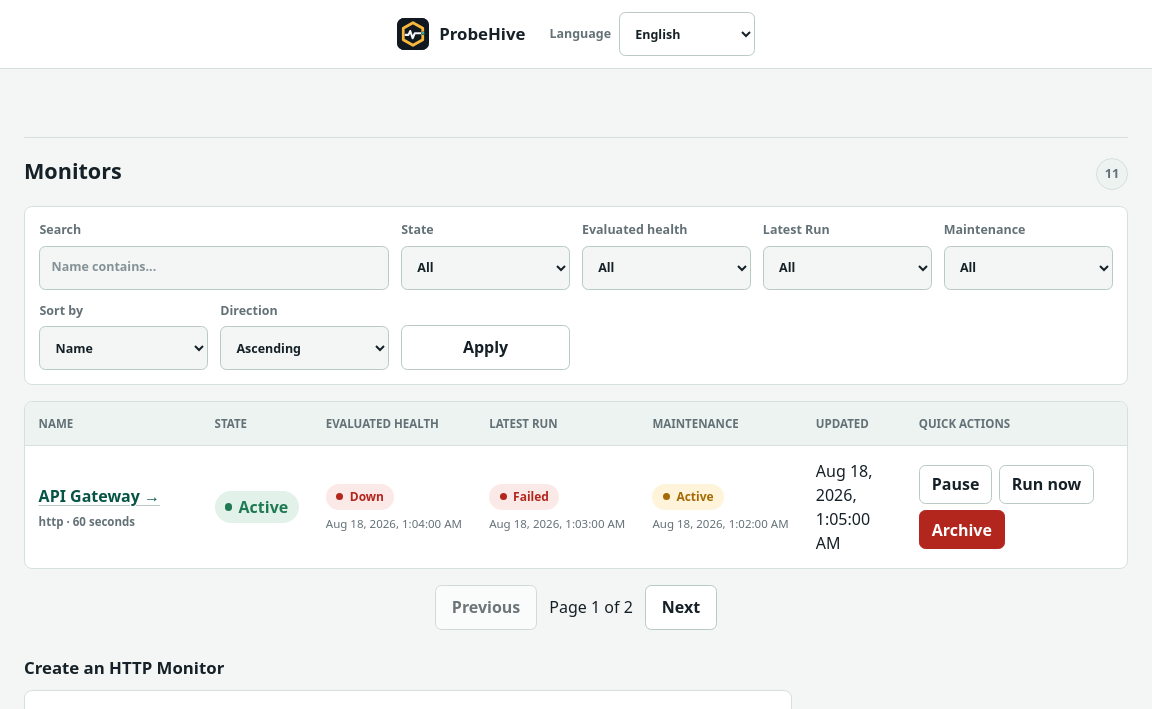
Test case: navigates between inventory pages
Expected: the link "API Gateway →" is shown, x1=39 y1=485 x2=160 y2=507
Click the button "Next" at (681, 608), box x1=645 y1=585 x2=717 y2=630
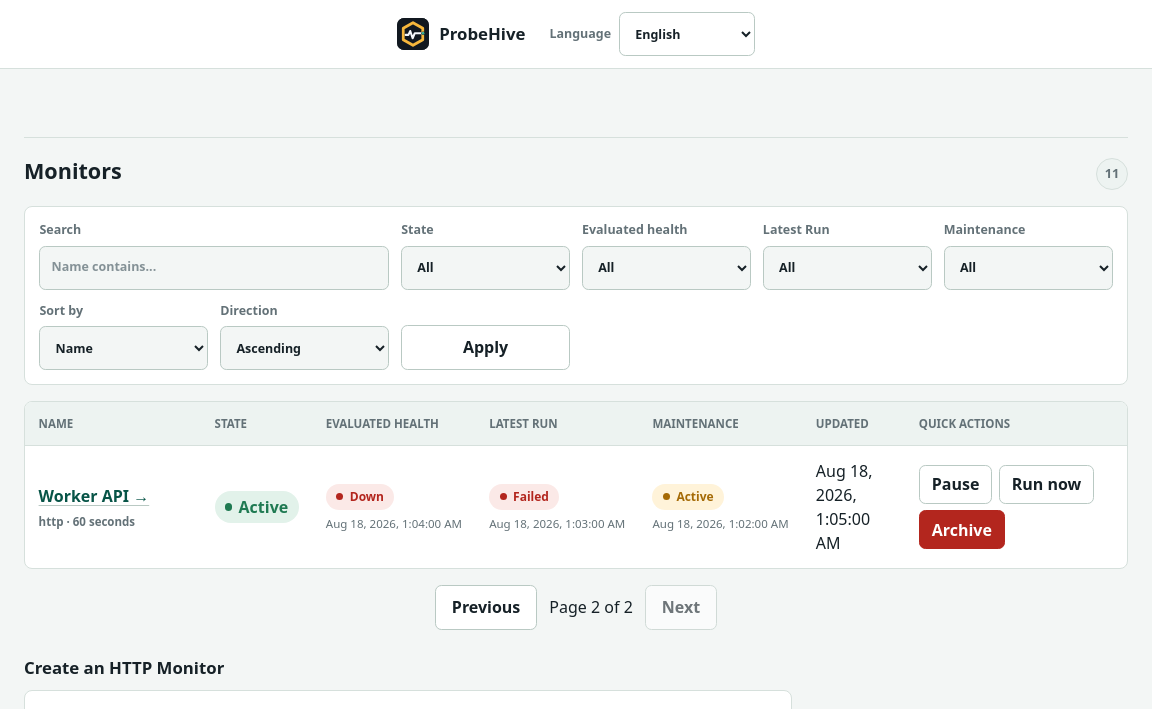
Now the link "Worker API →" is shown, box x1=39 y1=485 x2=149 y2=507
Now the text "Page 2 of 2" is shown, box x1=549 y1=596 x2=633 y2=620
